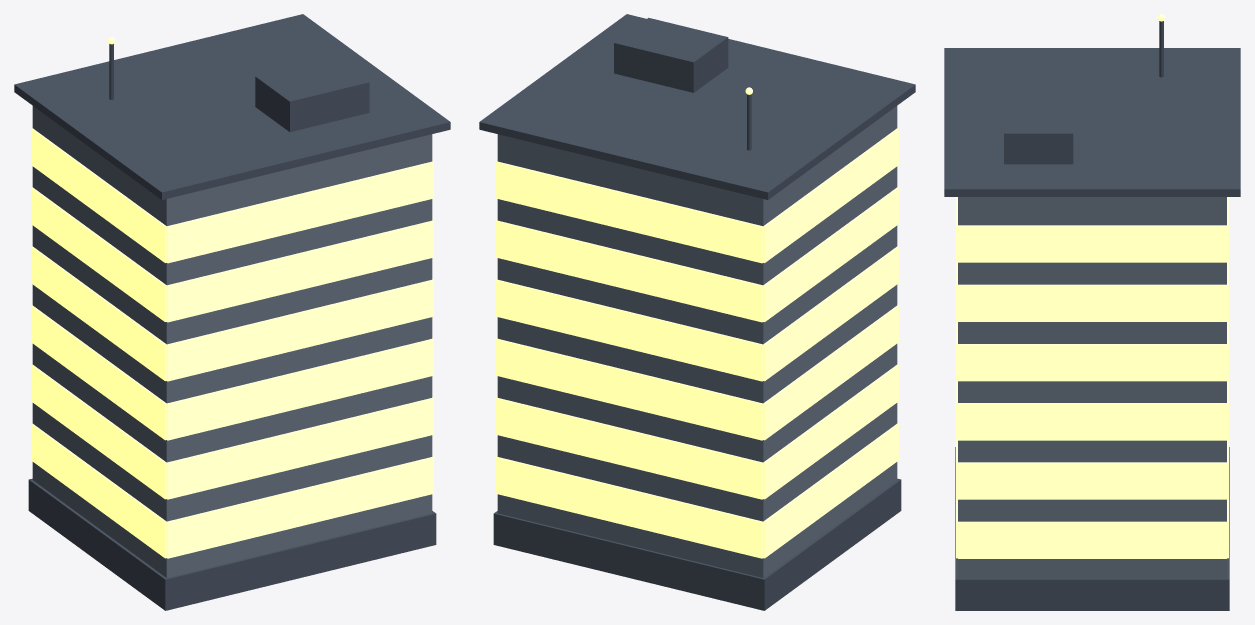
File: building_a.glb
3 renders of one model, left to right at view 1: azimuth 30°, elevation 25°; view 2: azimuth 150°, elevation 25°; view 3: azimuth 270°, elevation 25°, orthographic.
Parts seen in each view (by area): view 1: Mass, Cornice, Plinth, WinN.003, WinN.004, WinN, WinN.002, WinN.005, WinN.001, RoofBox, WinW, WinW.003 (+4 smaller); view 2: Mass, Cornice, Plinth, WinS.003, WinS.004, WinS, WinS.002, WinS.005, WinS.001, RoofBox, WinW, WinW.003 (+4 smaller); view 3: Mass, Cornice, WinE, WinE.001, WinE.002, WinE.003, WinE.004, WinE.005, Plinth, RoofBox.
Boxes of the visible parts, box(x1,y1,x2,y2) form: Mass: box(32, 106, 432, 577); Cornice: box(14, 14, 450, 199); Plinth: box(28, 478, 436, 610); WinN.003: box(166, 279, 433, 381); WinN.004: box(166, 220, 433, 322); WinN: box(166, 457, 433, 558); WinN.002: box(166, 338, 433, 440); WinN.005: box(166, 161, 433, 263); WinN.001: box(166, 398, 433, 499); RoofBox: box(255, 57, 369, 131); WinW: box(31, 423, 166, 558); WinW.003: box(31, 246, 166, 381); Mass: box(497, 106, 897, 577); Cornice: box(479, 14, 915, 199); Plinth: box(493, 478, 901, 610); WinS.003: box(496, 279, 763, 381); WinS.004: box(496, 220, 763, 322); WinS: box(496, 457, 763, 558); WinS.002: box(496, 338, 763, 440); WinS.005: box(496, 161, 763, 263); WinS.001: box(496, 398, 763, 499); RoofBox: box(614, 17, 728, 92); WinW: box(763, 423, 898, 558); WinW.003: box(763, 246, 898, 381); Mass: box(958, 197, 1226, 578); Cornice: box(944, 48, 1240, 196); WinE: box(958, 521, 1226, 558); WinE.001: box(958, 462, 1226, 499); WinE.002: box(958, 403, 1226, 440); WinE.003: box(958, 344, 1226, 381); WinE.004: box(958, 284, 1226, 321); WinE.005: box(958, 225, 1226, 262); Plinth: box(955, 447, 1229, 610); RoofBox: box(1004, 94, 1073, 164).
Size of the model in its own units: 8.7 by 14 by 7.7.
